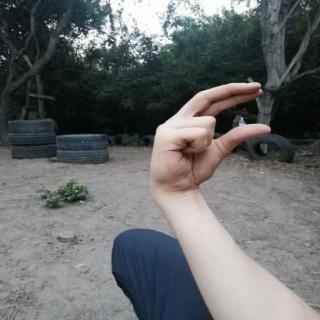DHELL: (144, 75, 280, 197)
